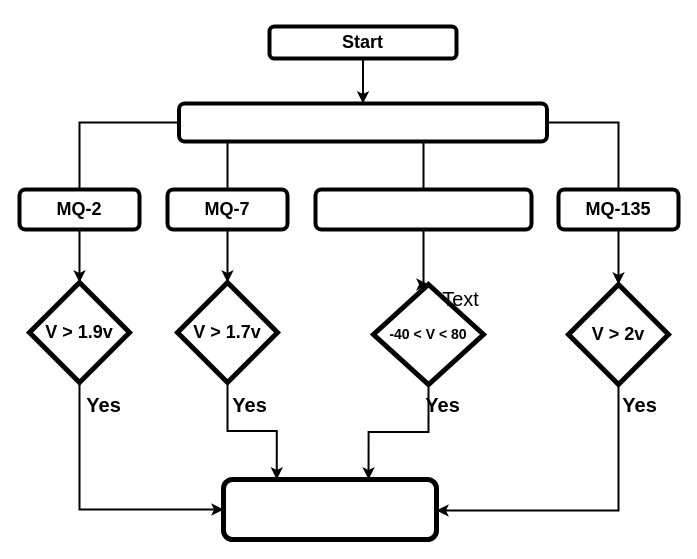
Some shapes in this 697 by 559 pixel diagram are drawn without their labels. Here are the shapes that lost their labels. From the top down, the centre of each, then its label:
At (x=362, y=122): "Connect Output of Sensors to controller".
At (x=423, y=209): "Temperature & Humidity".
At (x=329, y=509): "Cloud Database".
